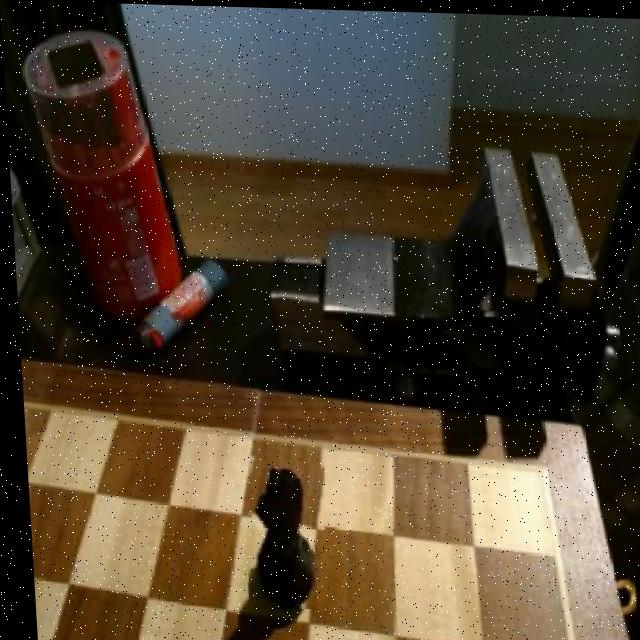black-king: (237, 456, 322, 607)
